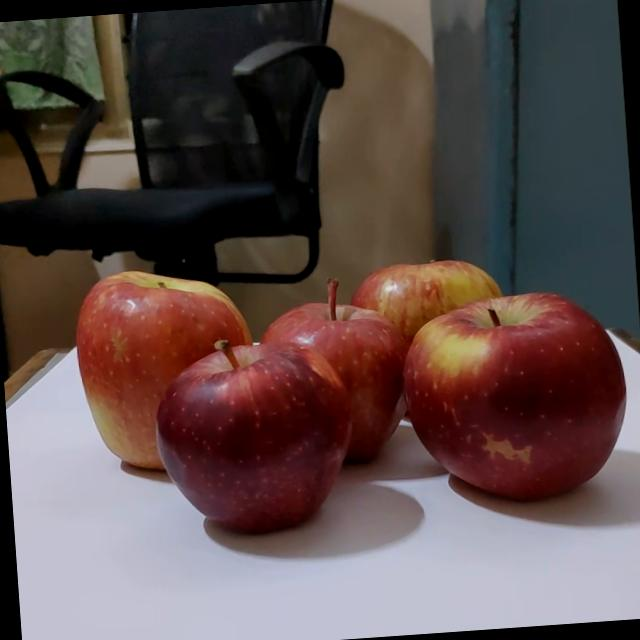apple: (371, 288, 614, 515), (131, 342, 338, 540), (60, 266, 243, 476), (240, 279, 403, 476), (320, 248, 500, 386)
